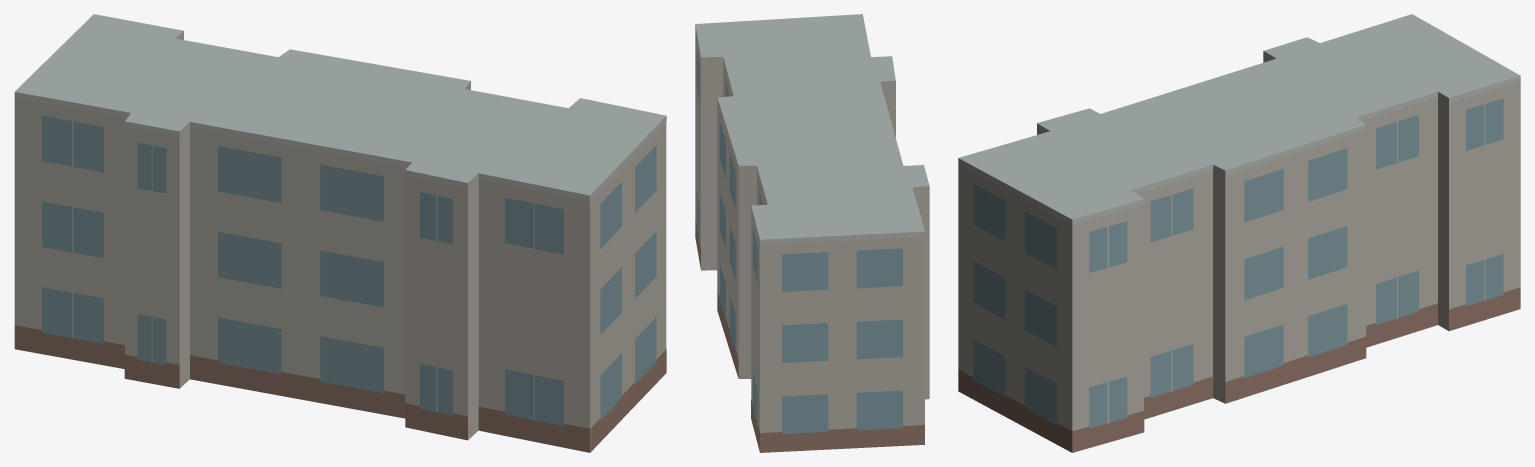
Rendered from survey-upis-32682097.glb.
The picture shows the model from 3 angles, left to right: view 1: azimuth 30°, elevation 25°; view 2: azimuth 150°, elevation 25°; view 3: azimuth 270°, elevation 25°; orthographic projection. The views are drawn at different scales.
Parts seen in each view (by area): view 1: survey-upis-32682097.tmp; view 2: survey-upis-32682097.tmp; view 3: survey-upis-32682097.tmp.
Part boxes in pixels (x1=…): survey-upis-32682097.tmp: x1=14, y1=14, x2=666, y2=452; survey-upis-32682097.tmp: x1=695, y1=14, x2=929, y2=452; survey-upis-32682097.tmp: x1=958, y1=14, x2=1520, y2=452.
Size of the model in its own units: 19.84 by 10.5 by 22.94.
